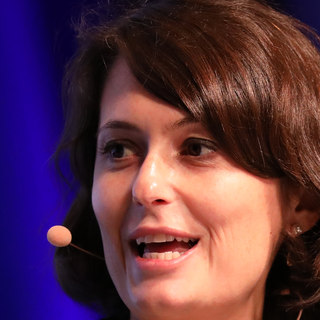eye: (179, 135, 223, 162), (99, 138, 140, 164)
